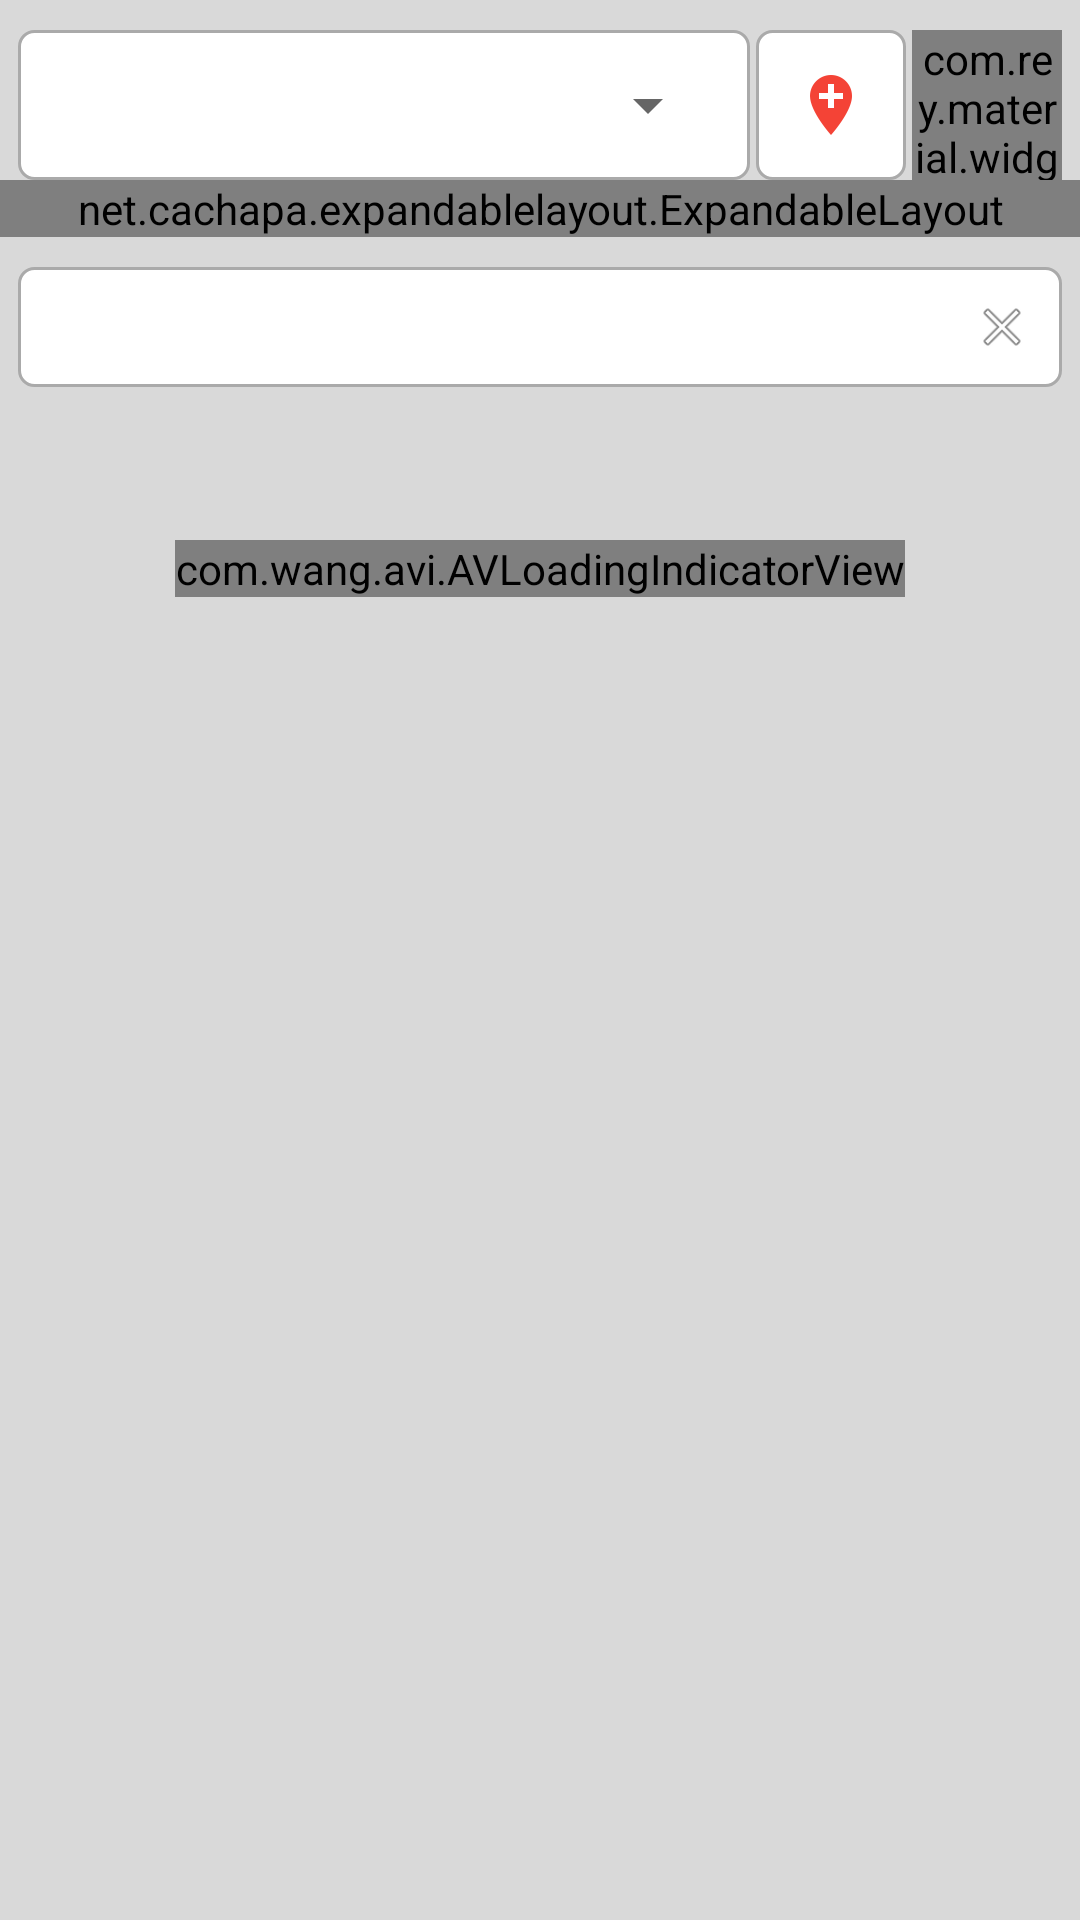

Named icons in this screenshot (1080 × 1920) and their bounding boxes, [x1,y1,x2,y2]:
add location: [756,30,906,180]
